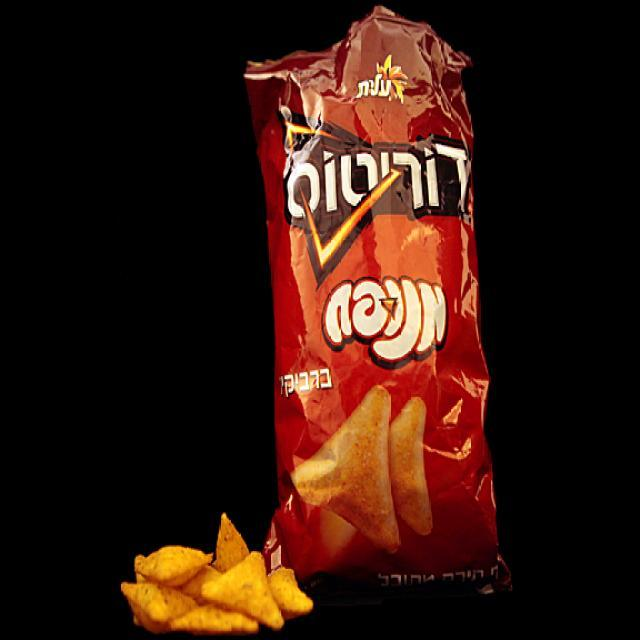Chips: (230, 15, 549, 618)
Chips packaged: (101, 511, 342, 628)
